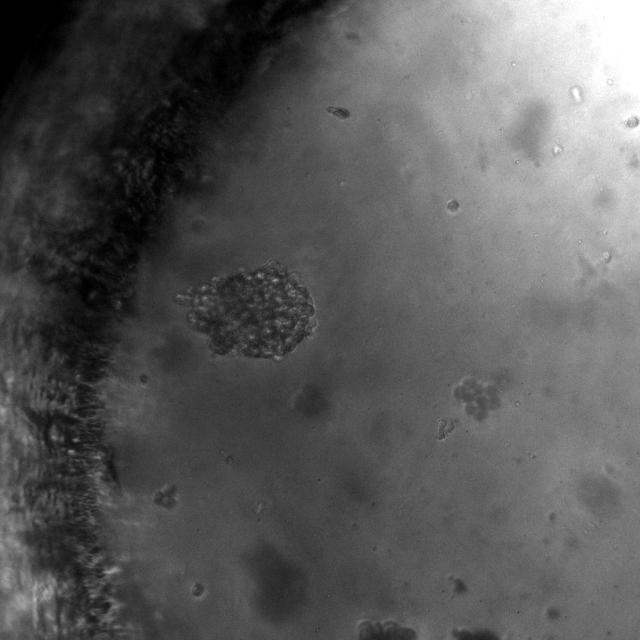organoid: (175, 261, 316, 360), (453, 376, 500, 421), (358, 619, 417, 639), (153, 485, 177, 509), (451, 628, 500, 639), (191, 582, 204, 597)
